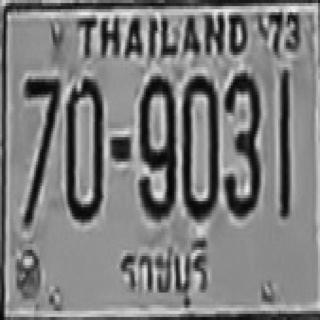N00: (64, 76, 102, 219), (182, 73, 218, 216)
N01: (278, 67, 290, 216)
N03: (223, 72, 260, 215)
N07: (23, 76, 59, 222), (23, 76, 59, 180)
N09: (138, 73, 174, 216)
P52: (120, 235, 214, 316)
